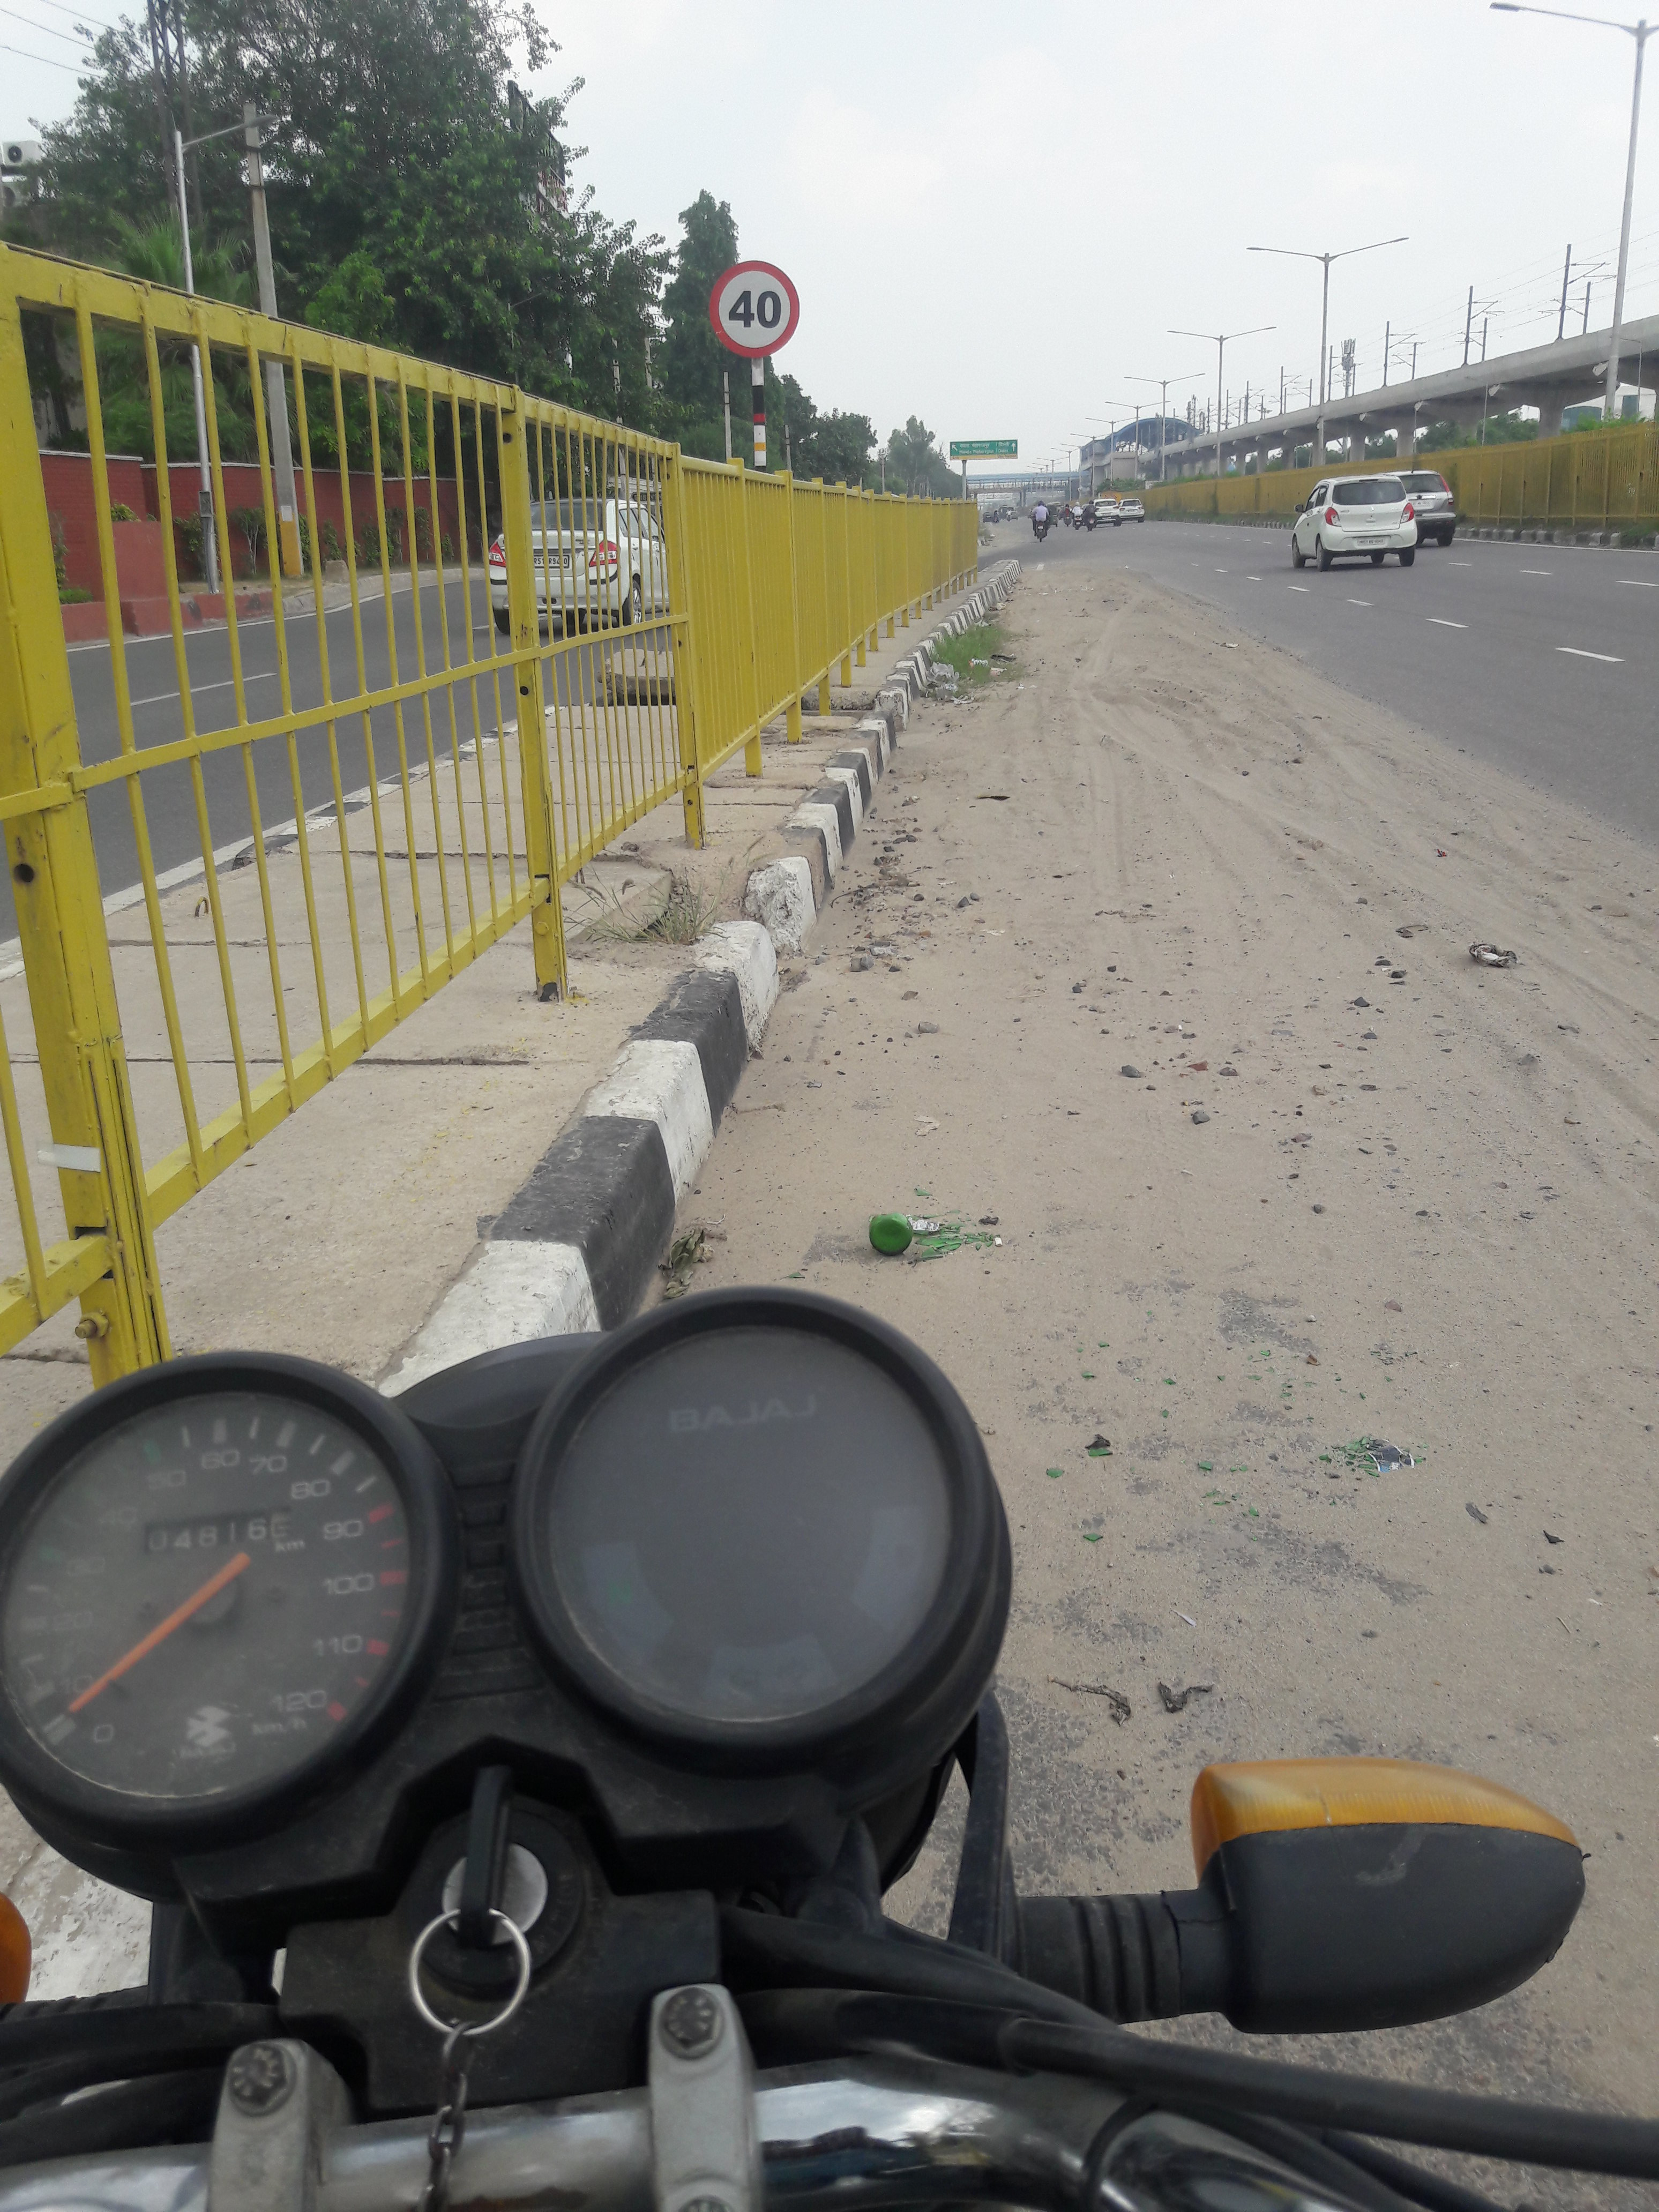traffic_sign: (709, 260, 800, 362)
